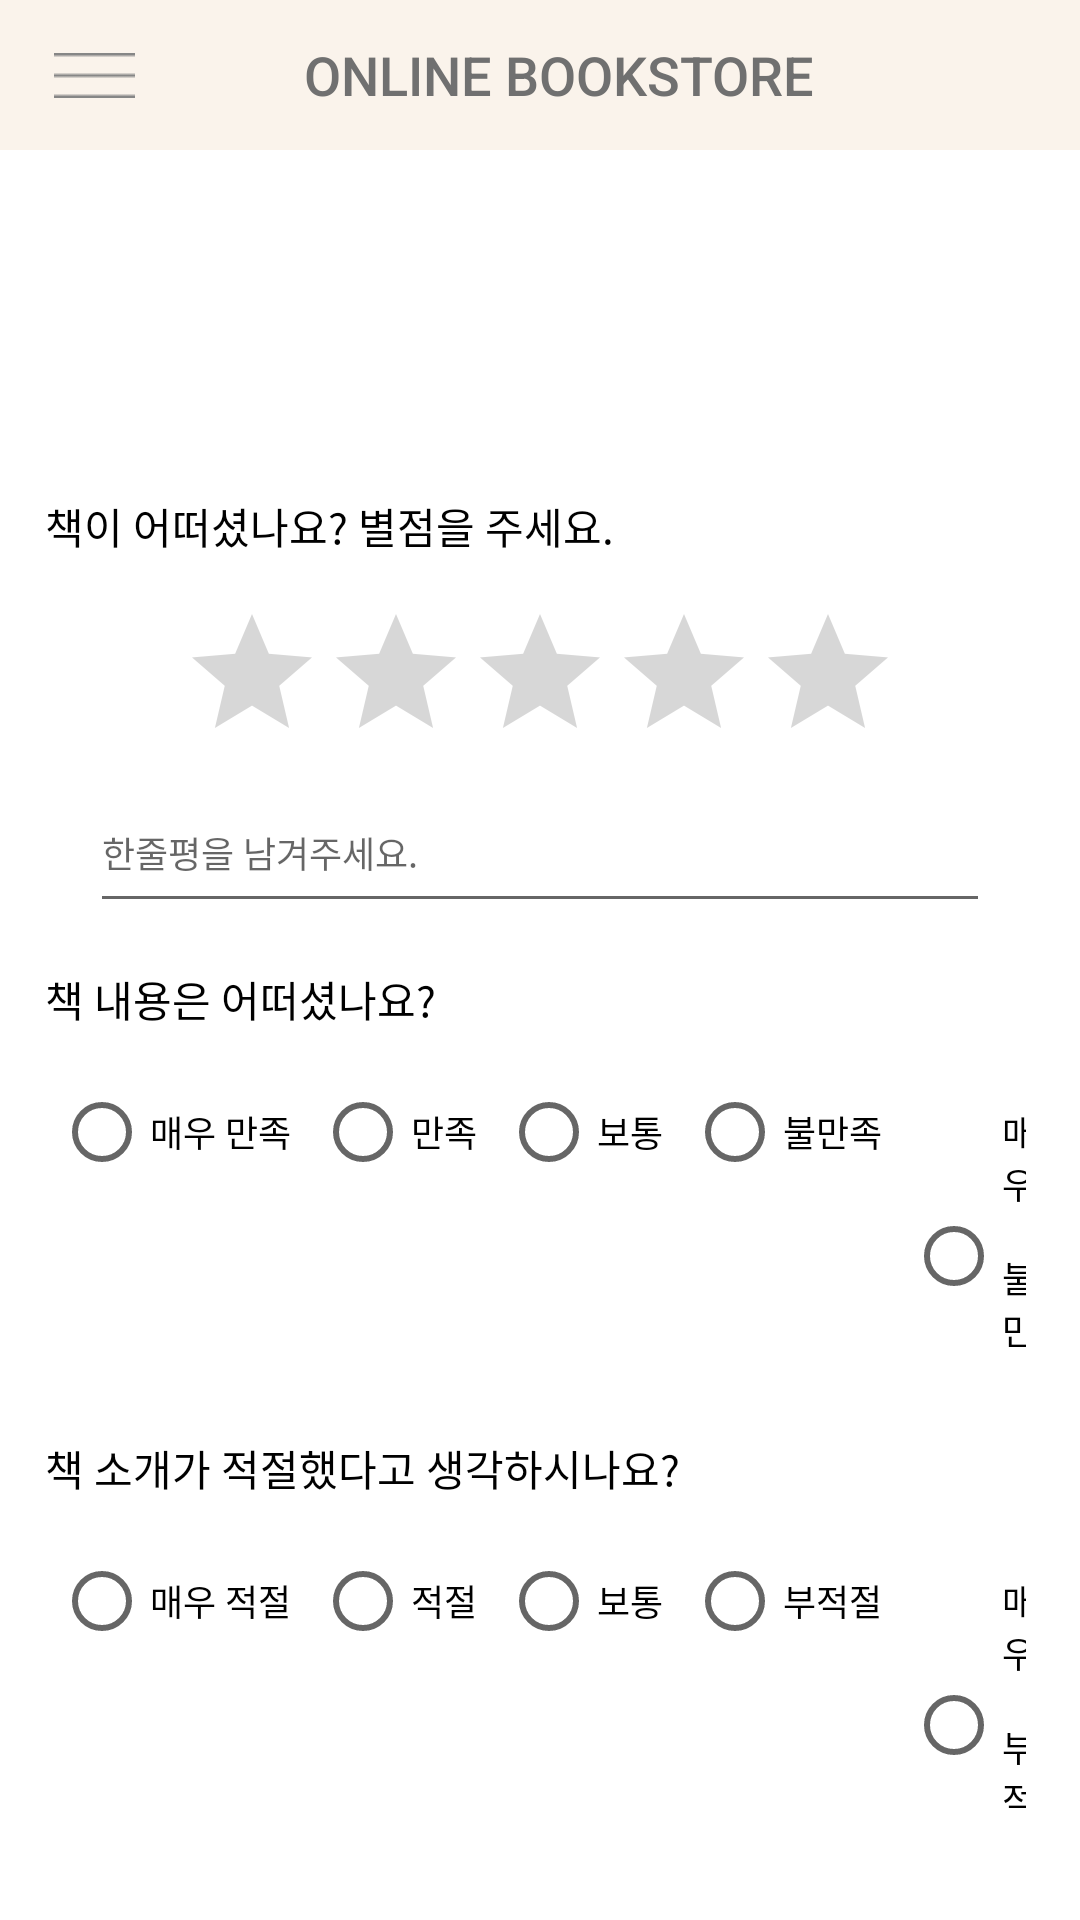

Point at icon controls on the screen. Image size 1080x1920, points as [x,y].
category: [94,75]
